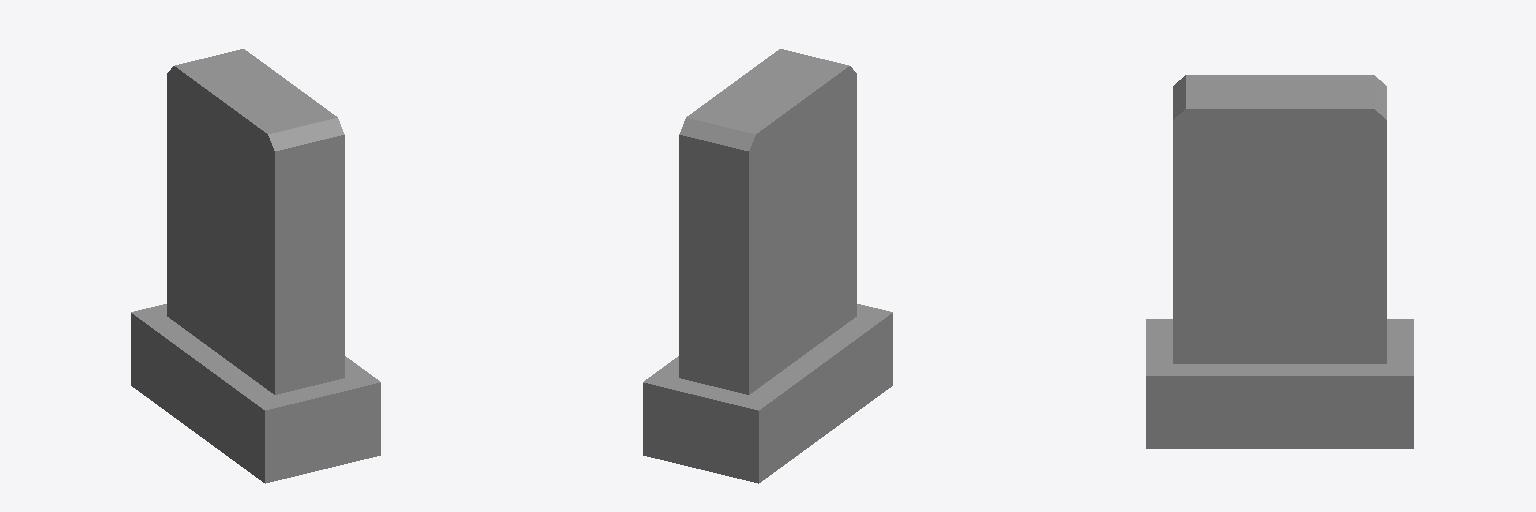
The model's file is grave2.obj.
The picture shows the model from 3 angles: view 1: azimuth 30°, elevation 25°; view 2: azimuth 150°, elevation 25°; view 3: azimuth 270°, elevation 25°; orthographic projection.
Visible parts, largest first — view 1: grave2_Cube.001; view 2: grave2_Cube.001; view 3: grave2_Cube.001.
Boxes of the visible parts, x1,y1,x2,y2 form: grave2_Cube.001: [131, 49, 380, 483]; grave2_Cube.001: [643, 49, 892, 483]; grave2_Cube.001: [1146, 75, 1413, 448].
Size of the model in its own units: 0.2 by 0.54 by 0.4.